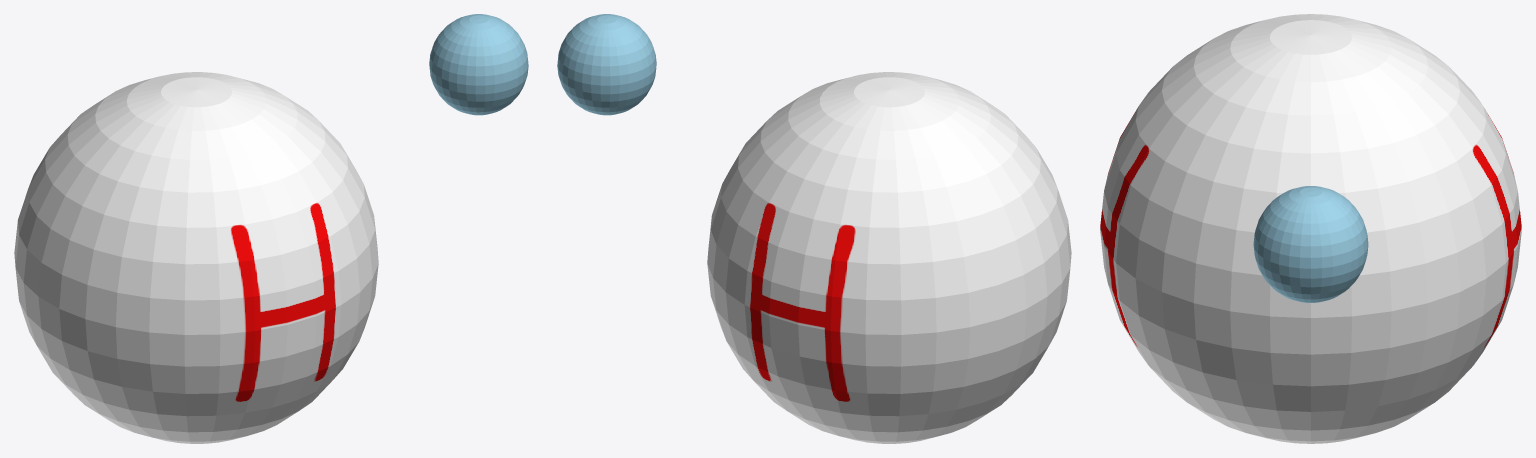
The model's file is daaa.fbx.
3 views of the same model, side by side, from view 1: azimuth 30°, elevation 25°; view 2: azimuth 150°, elevation 25°; view 3: azimuth 270°, elevation 25° (orthographic). The views are drawn at different scales.
Parts seen in each view (by area): view 1: Sphere, Sphere.001; view 2: Sphere, Sphere.001; view 3: Sphere, Sphere.001.
Part boxes in pixels (<box>): Sphere: <box>14,72,378,443</box>; Sphere.001: <box>429,14,528,115</box>; Sphere: <box>707,72,1071,443</box>; Sphere.001: <box>557,14,656,115</box>; Sphere: <box>1100,14,1521,443</box>; Sphere.001: <box>1253,186,1368,302</box>.
Size of the model in its own units: 433 by 289 by 283.
